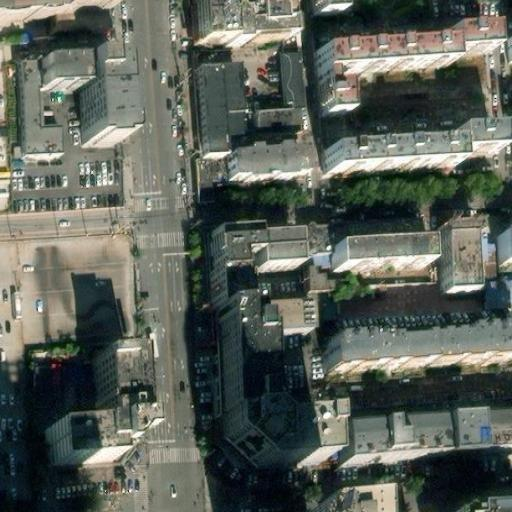building: (343, 414, 512, 473), (322, 23, 492, 70), (327, 120, 496, 165), (333, 330, 512, 370), (17, 71, 91, 156), (341, 392, 510, 427), (80, 343, 135, 430), (237, 423, 326, 476), (220, 326, 266, 424), (193, 58, 237, 157), (196, 0, 292, 43), (38, 420, 112, 468), (230, 155, 313, 196), (208, 231, 259, 291), (91, 83, 126, 167), (335, 261, 424, 293), (442, 240, 479, 307), (254, 297, 305, 337), (323, 486, 395, 512), (252, 111, 302, 144), (256, 229, 290, 267), (294, 227, 327, 266), (58, 0, 114, 21), (482, 276, 512, 312), (280, 59, 300, 112), (448, 496, 512, 512), (500, 229, 512, 269)
